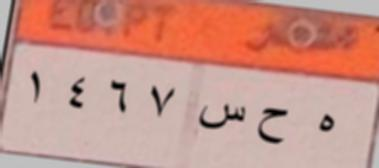1: (25, 66, 48, 110)
4: (66, 76, 87, 119)
6: (108, 76, 131, 118)
7: (146, 81, 178, 120)
7aa: (258, 103, 290, 156)
haa: (310, 106, 340, 143)
seen: (198, 99, 246, 136)
